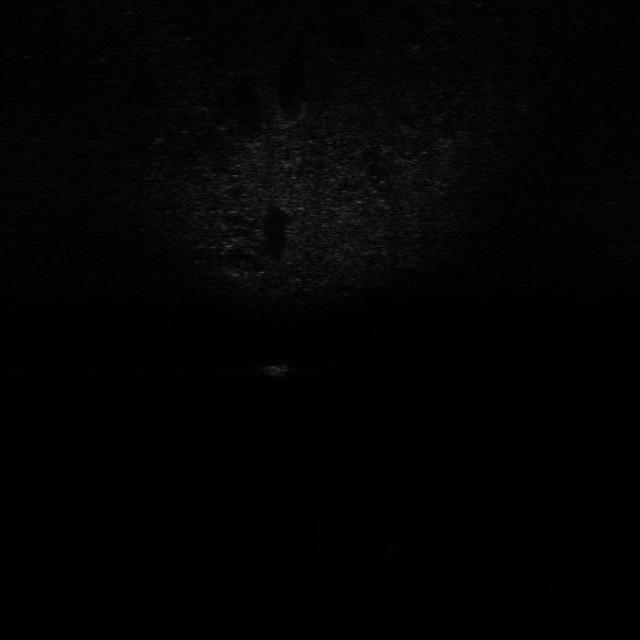cube: (267, 353, 293, 378)
